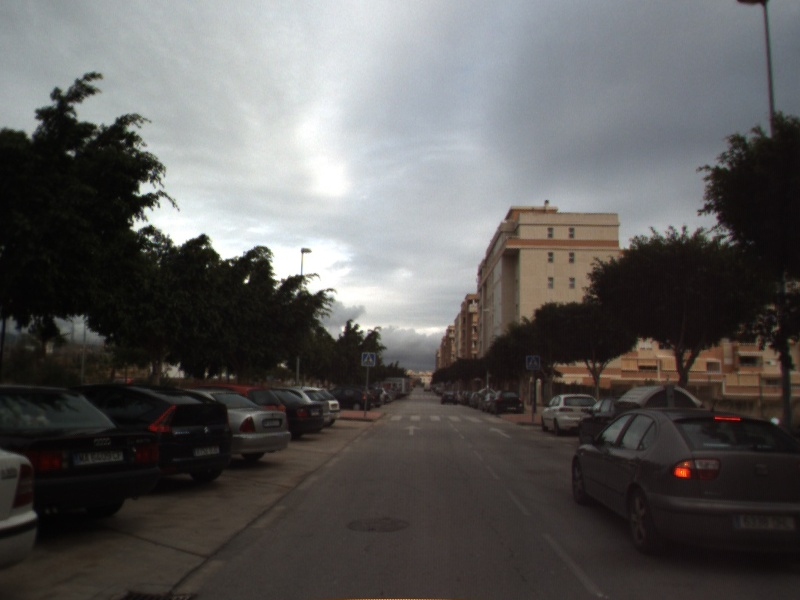STRAIGHT: (487, 425, 513, 440), (401, 423, 423, 437)
